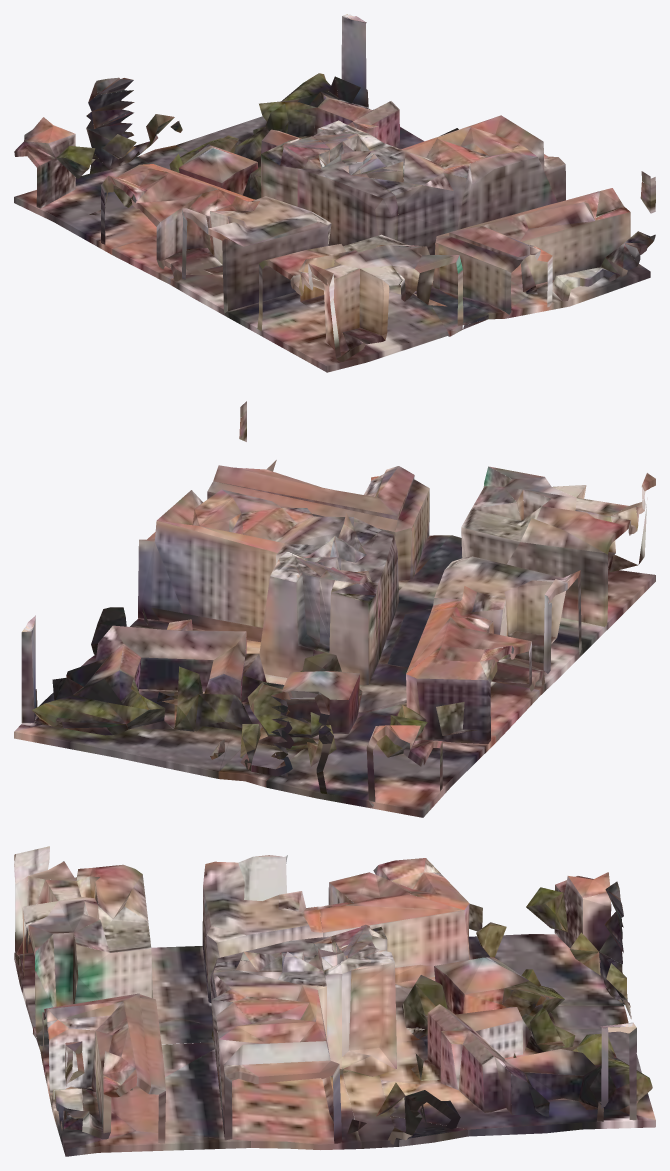
3 renders of one model, top to bottom at view 1: azimuth 30°, elevation 25°; view 2: azimuth 150°, elevation 25°; view 3: azimuth 270°, elevation 25°, orthographic. The views are drawn at different scales.
Parts seen in each view (by area): view 1: Mesh_0; view 2: Mesh_0; view 3: Mesh_0.
Boxes of the visible parts, bbox=[...] form: Mesh_0: bbox=[14, 14, 655, 372]; Mesh_0: bbox=[14, 401, 655, 817]; Mesh_0: bbox=[14, 846, 655, 1156].
Size of the model in its own units: 135 by 35.39 by 165.
Materials: 2 (2 with a texture image).
